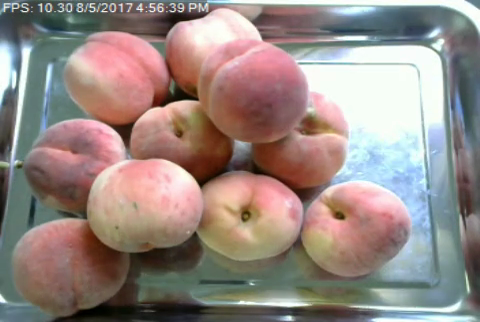Peach: (14, 216, 125, 317), (198, 39, 309, 140), (300, 180, 411, 276), (90, 155, 199, 252), (64, 28, 168, 126), (195, 170, 305, 260), (251, 91, 349, 183), (128, 98, 233, 183), (25, 119, 125, 208), (166, 5, 263, 96)
